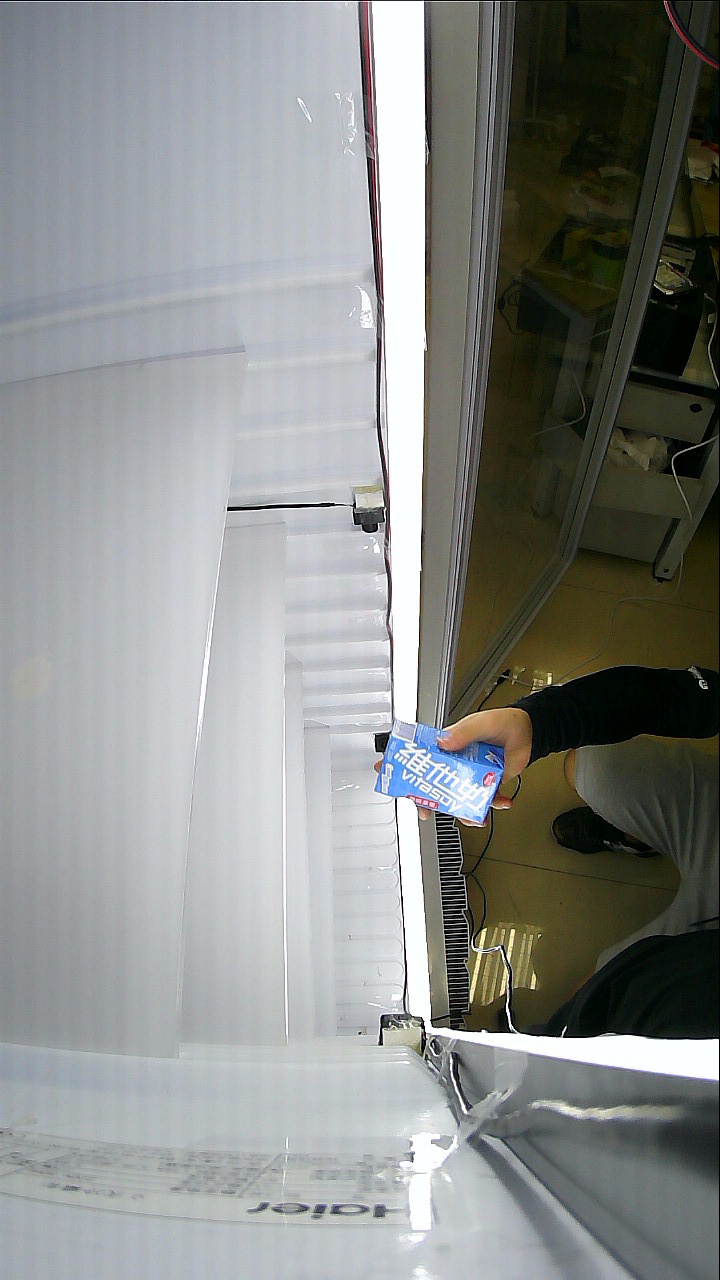VitaSoyOriginal: (379, 696, 550, 831)
